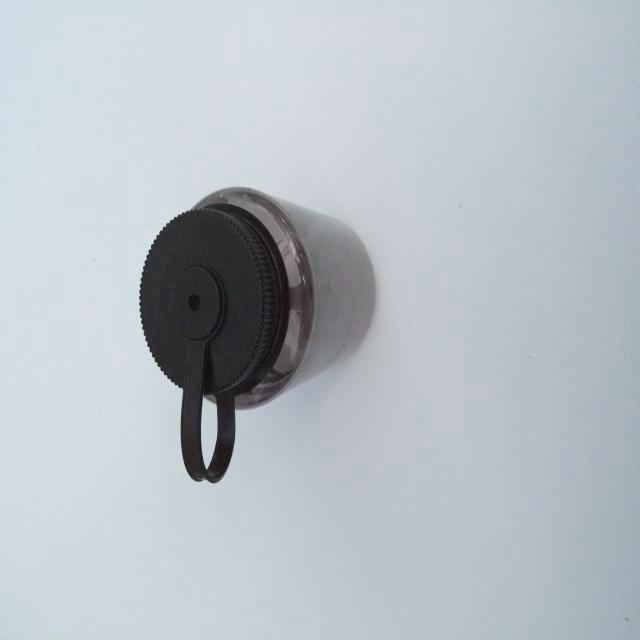plastic: (120, 177, 400, 501)
